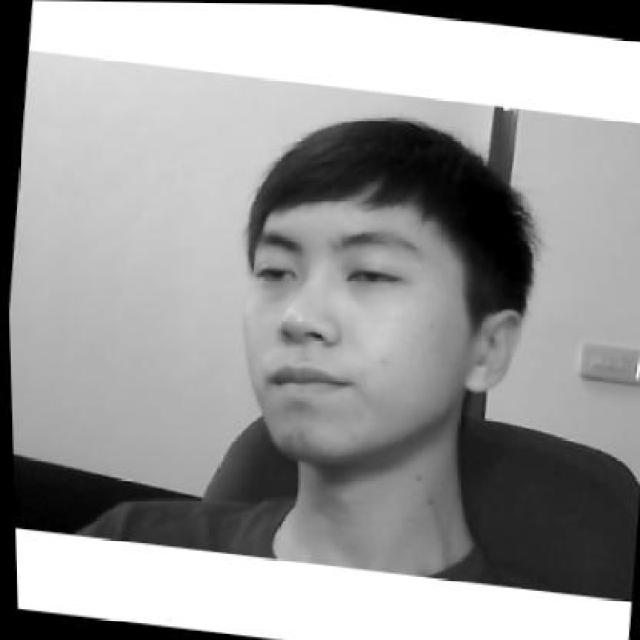inattentif: (220, 99, 543, 482)
